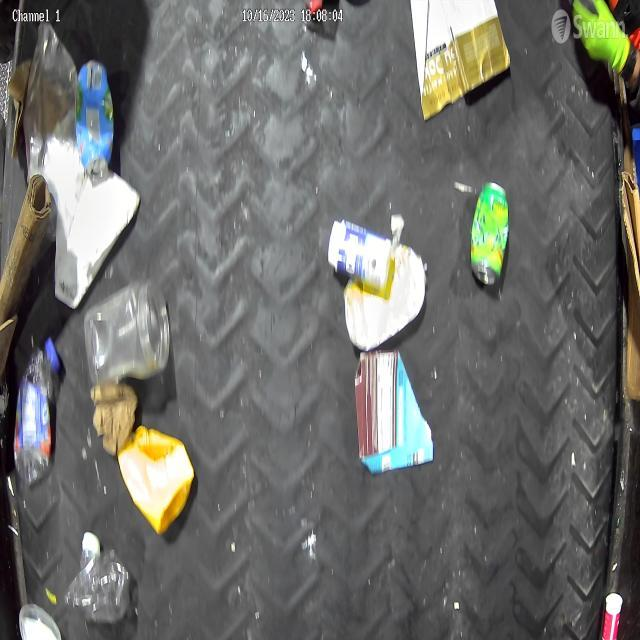can: (470, 183, 510, 284)
plastic_bottle: (13, 332, 62, 484), (65, 532, 134, 620)
